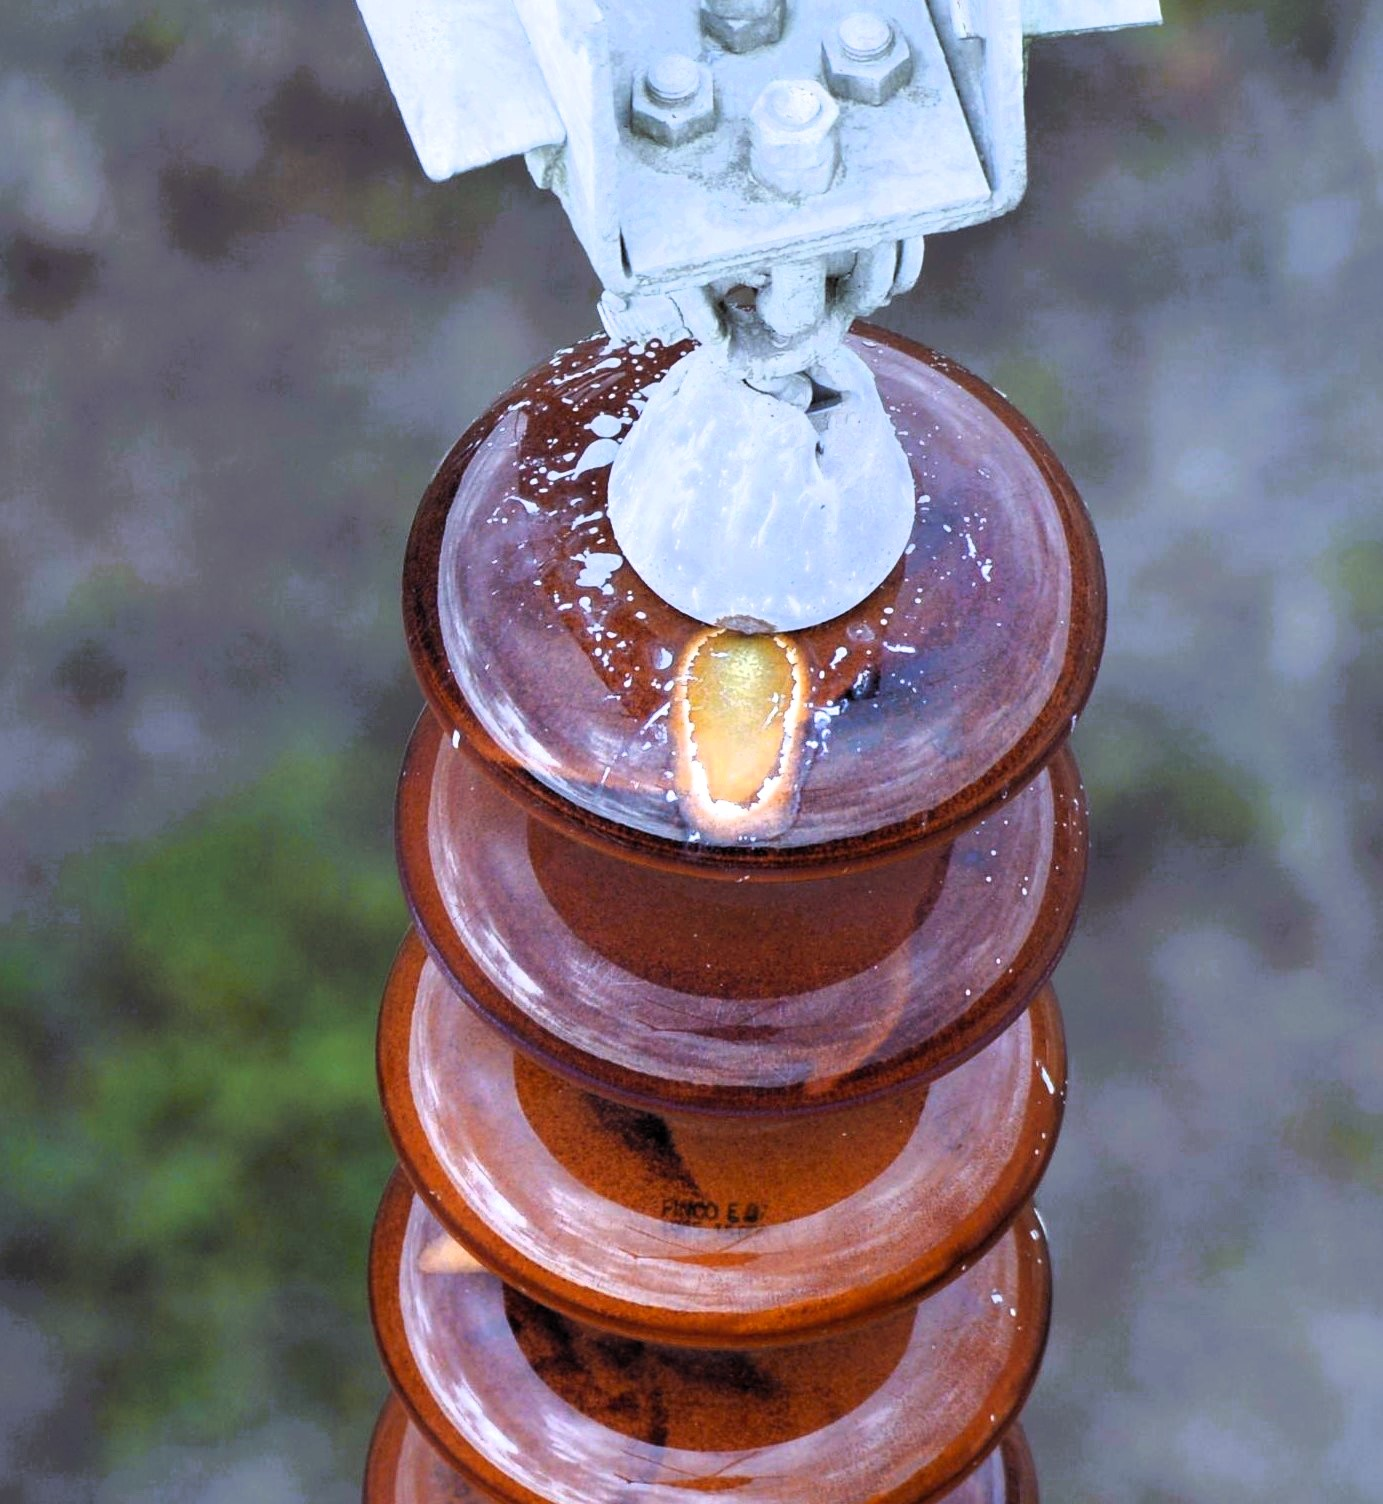Insulator flashover: (380, 313, 1117, 883)
